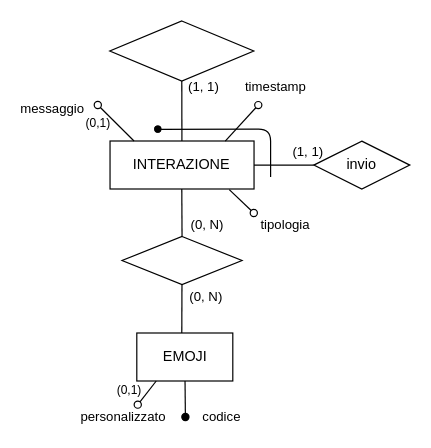
The diagram is 431 pixels wide and 448 high, and some of its shapes have lost their labels. Each missing label, with the centre of its shape:
"partecipazione" goes at (181,50).
"presenza" goes at (181,260).
